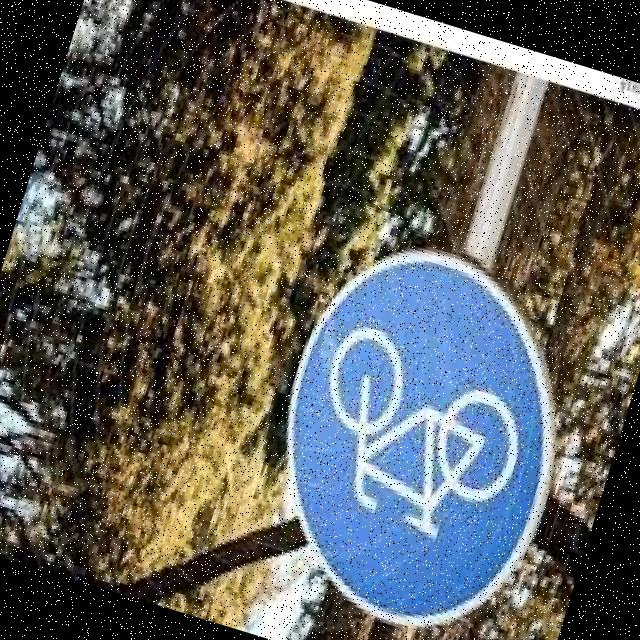bicycle: (223, 211, 608, 640)
